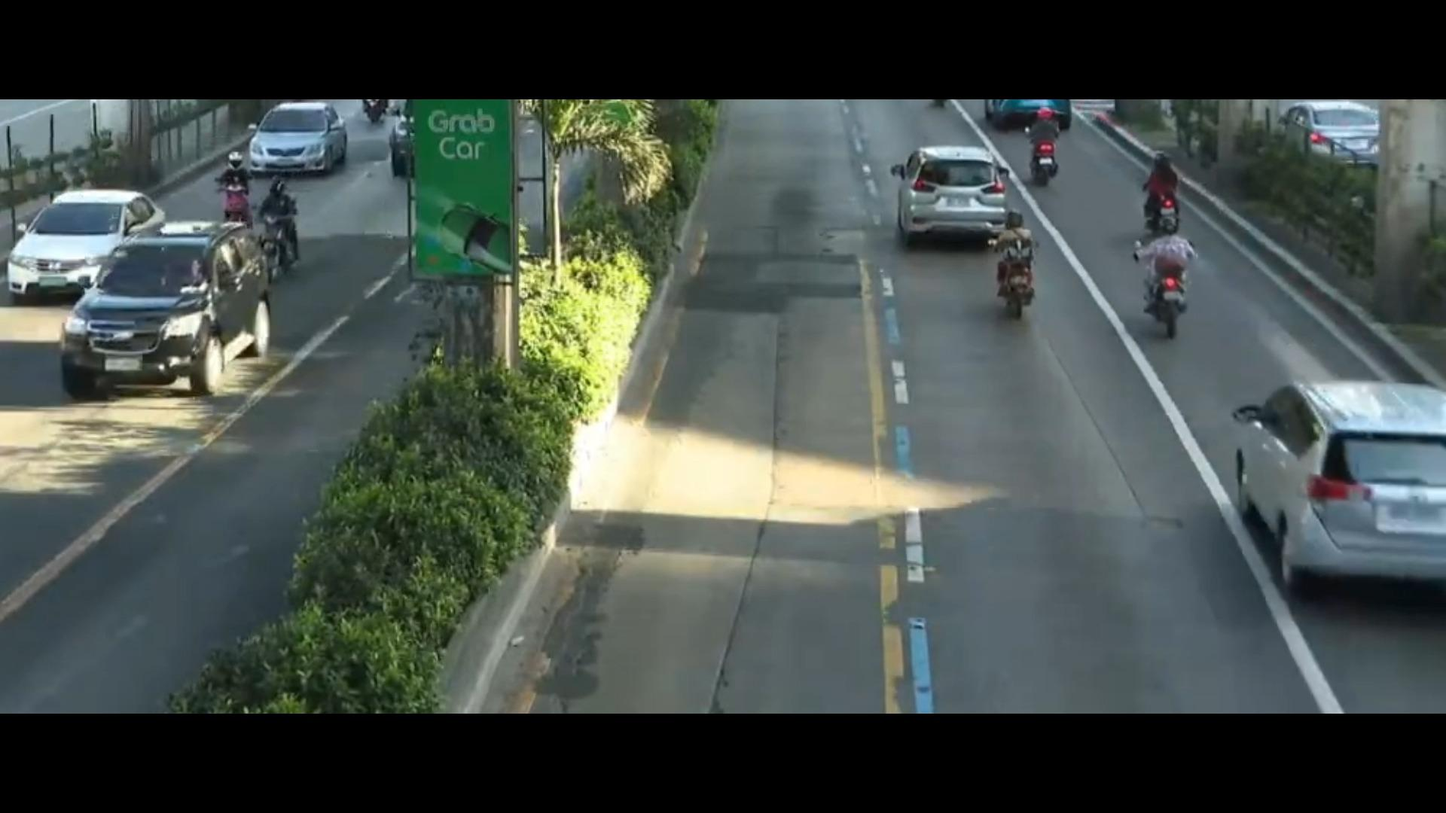Motorcycle: (1108, 214, 1208, 340), (967, 211, 1047, 334), (1114, 149, 1216, 242), (246, 189, 327, 272), (1005, 93, 1070, 193), (216, 121, 262, 230)
SUV: (1206, 364, 1446, 603), (59, 211, 272, 428)
Sedan: (0, 174, 166, 308), (904, 121, 1023, 254), (256, 93, 362, 177)
